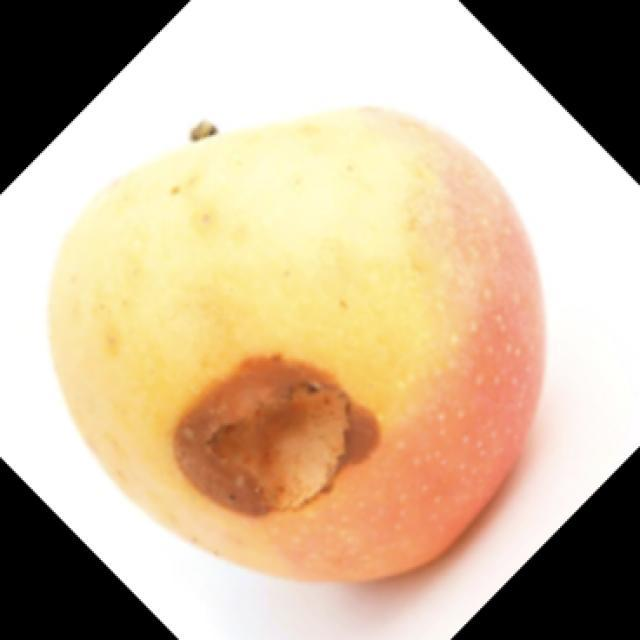Rotten: (75, 105, 540, 572)
